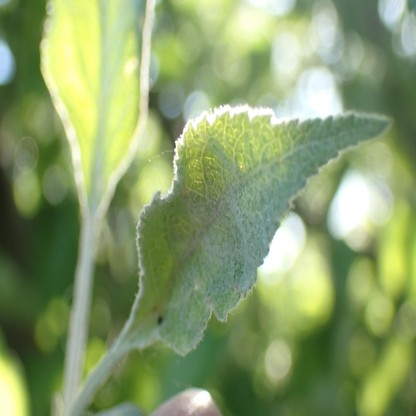powder: (137, 105, 390, 358)
